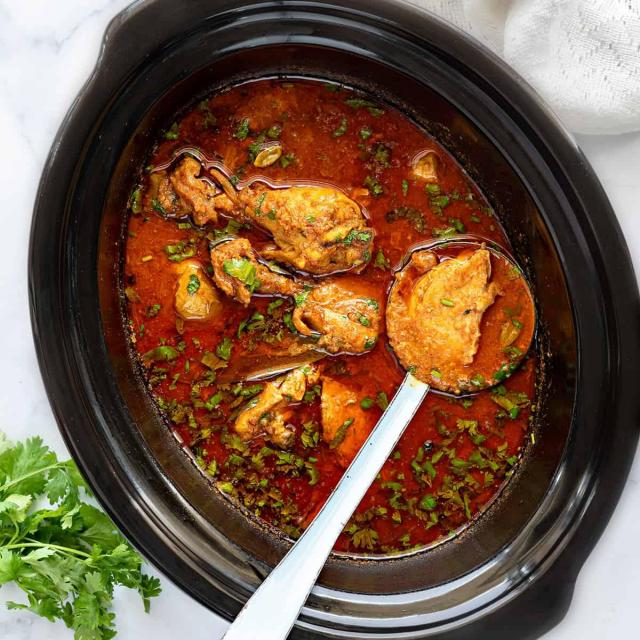chicken: (129, 84, 532, 560)
